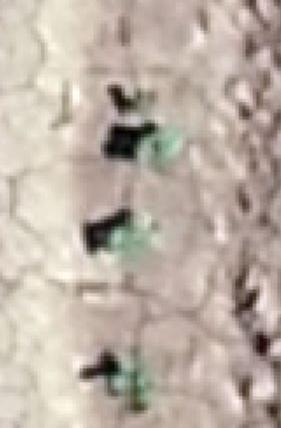cotton: (122, 369, 149, 399), (154, 131, 181, 159), (114, 227, 144, 242)
